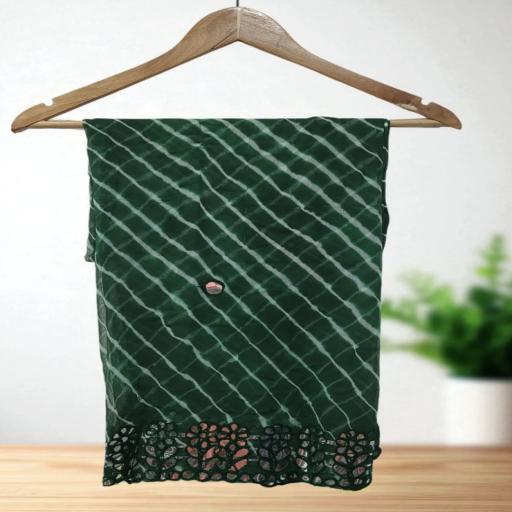Dupatta: (61, 106, 392, 489)
